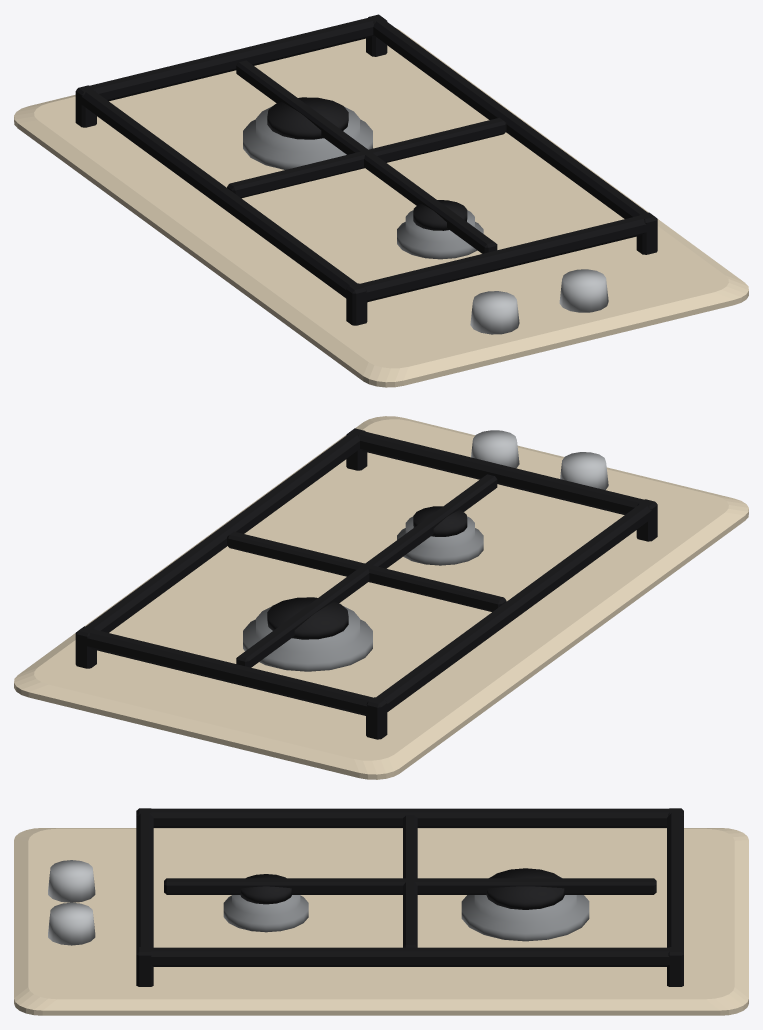
The model's file is a_hob_gas2_3.glb.
3 views of the same model, one above another, from view 1: azimuth 30°, elevation 25°; view 2: azimuth 150°, elevation 25°; view 3: azimuth 270°, elevation 25° (orthographic). The views are drawn at different scales.
Visible parts, largest first — view 1: o, o.005, o.007, o.006, o.008, o.009, o.010, o.001, o.003, o.002, o.015, o.016 (+3 smaller); view 2: o, o.005, o.007, o.008, o.006, o.009, o.010, o.001, o.003, o.002, o.016, o.015 (+3 smaller); view 3: o, o.007, o.005, o.009, o.001, o.006, o.003, o.008, o.002, o.010, o.015, o.016 (+3 smaller).
Part boxes in pixels (<box>): o: <box>14,28,748,387</box>; o.005: <box>76,86,364,302</box>; o.007: <box>371,15,652,231</box>; o.006: <box>354,213,655,302</box>; o.008: <box>77,15,382,101</box>; o.009: <box>236,60,497,253</box>; o.010: <box>227,117,506,198</box>; o.001: <box>243,106,372,169</box>; o.003: <box>397,210,483,259</box>; o.002: <box>267,97,348,139</box>; o.015: <box>470,291,519,334</box>; o.016: <box>559,269,608,312</box>; o: <box>14,416,748,779</box>; o.005: <box>368,501,656,716</box>; o.007: <box>78,430,360,645</box>; o.008: <box>78,629,386,715</box>; o.006: <box>351,429,651,514</box>; o.009: <box>236,474,497,667</box>; o.010: <box>227,531,506,611</box>; o.001: <box>243,606,372,671</box>; o.003: <box>397,516,483,565</box>; o.002: <box>267,597,348,639</box>; o.016: <box>471,430,519,468</box>; o.015: <box>560,452,608,489</box>; o: <box>14,828,748,1015</box>; o.007: <box>140,947,679,966</box>; o.005: <box>140,808,679,827</box>; o.009: <box>164,878,656,894</box>; o.001: <box>461,877,589,941</box>; o.006: <box>136,809,153,964</box>; o.003: <box>223,895,308,932</box>; o.008: <box>667,809,683,964</box>; o.002: <box>486,868,564,909</box>; o.010: <box>403,815,417,947</box>; o.015: <box>48,860,95,902</box>; o.016: <box>48,902,95,945</box>.
Size of the model in its own units: 0.3 by 0.034 by 0.51.
